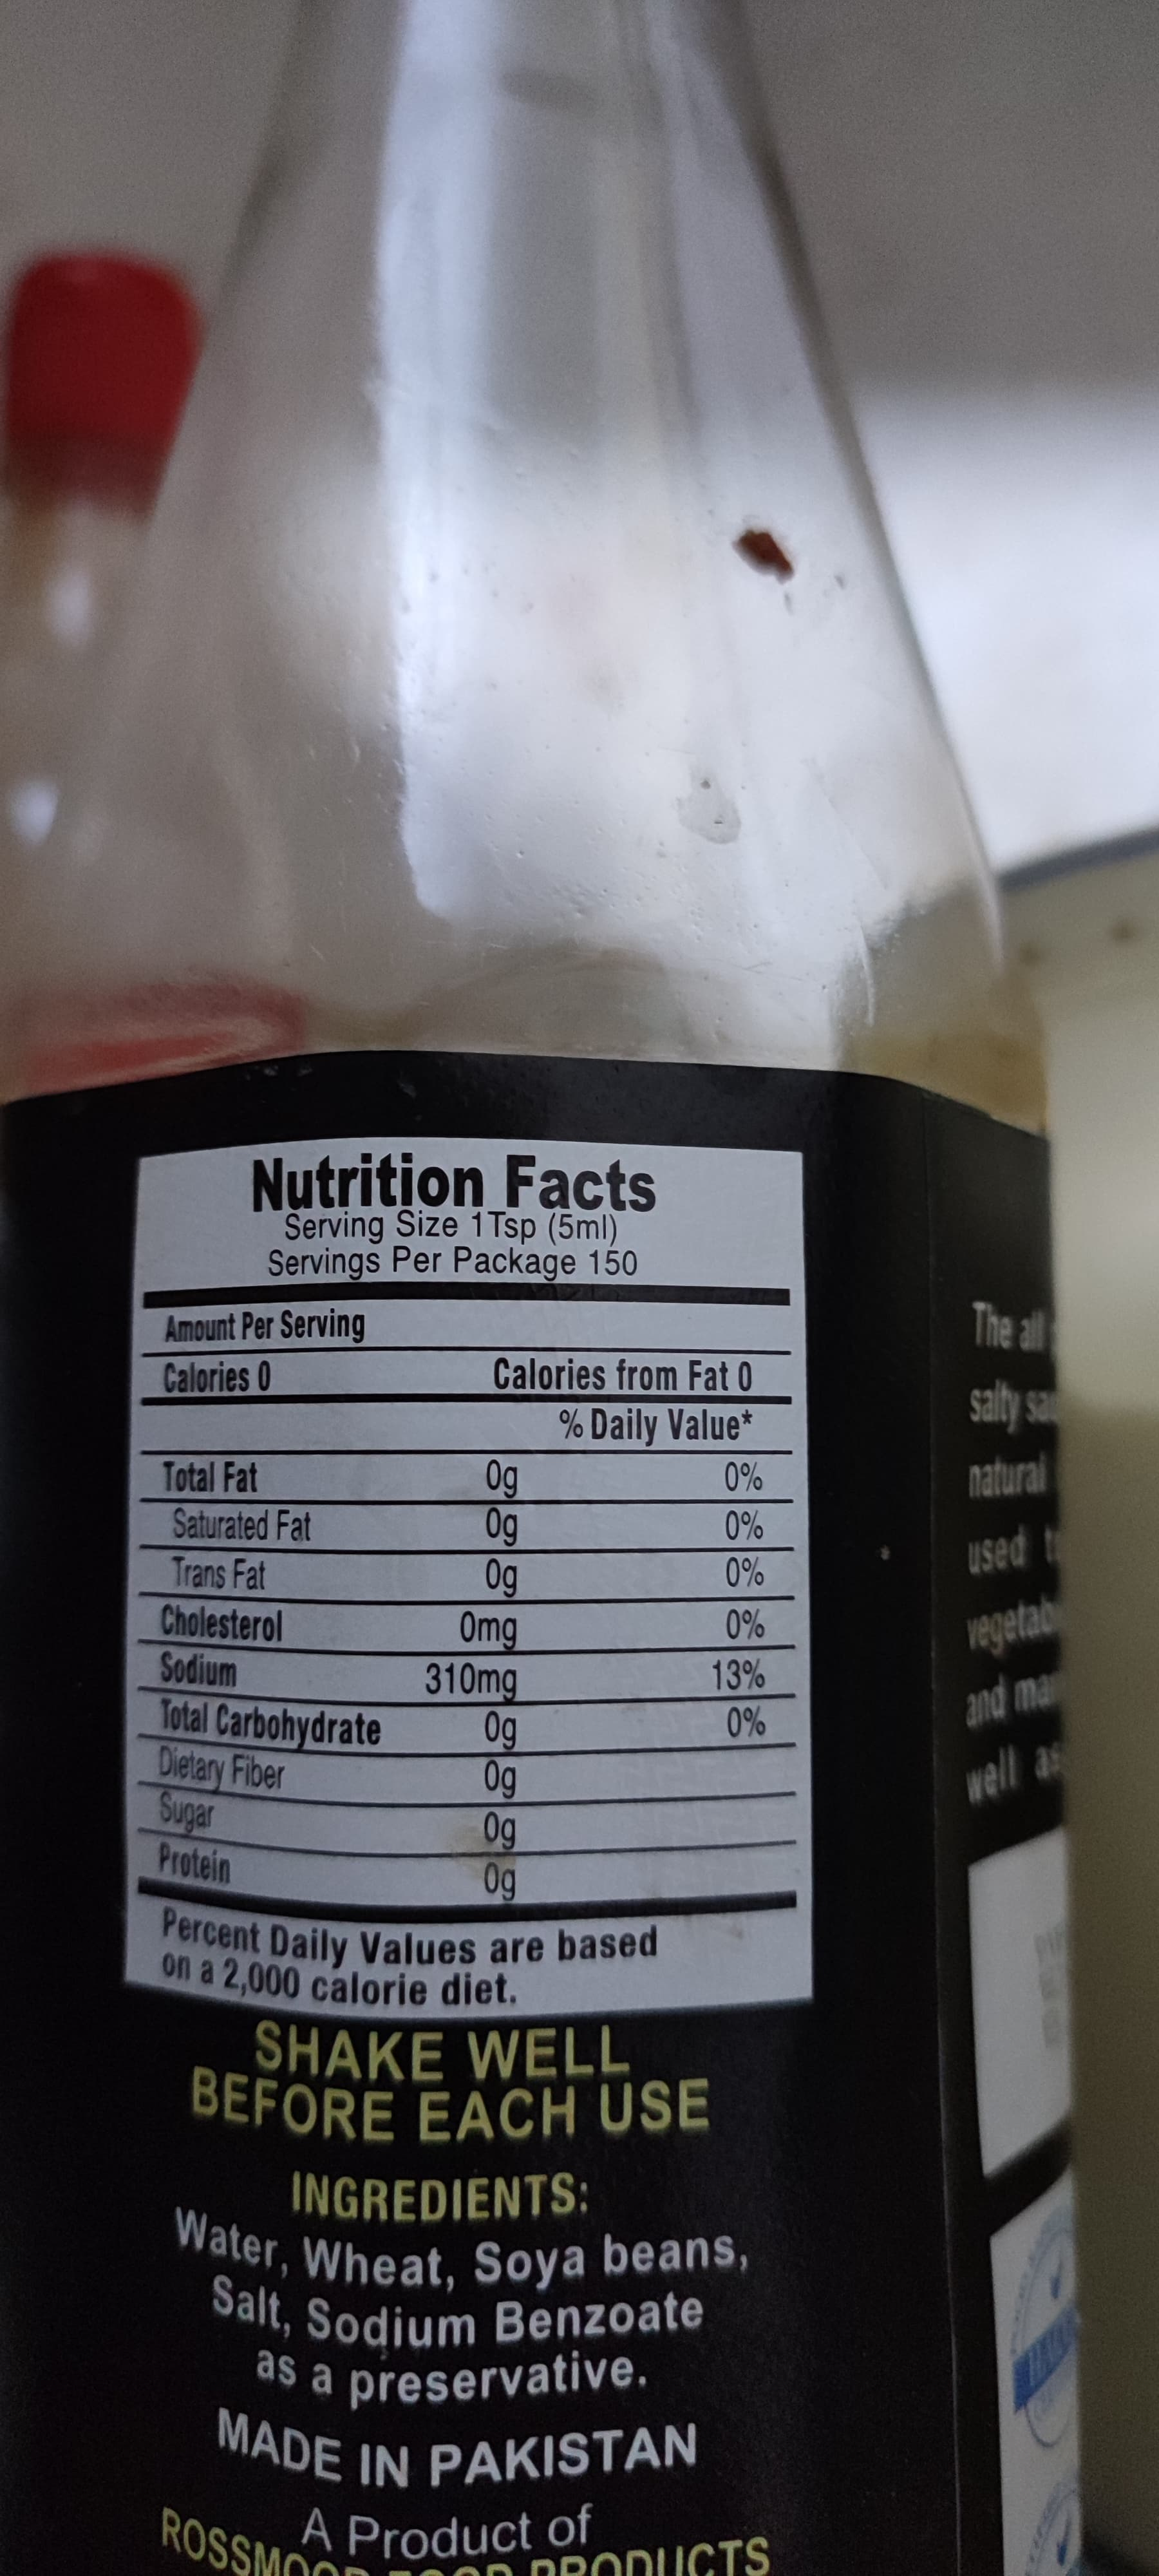table: (113, 1130, 824, 2014)
